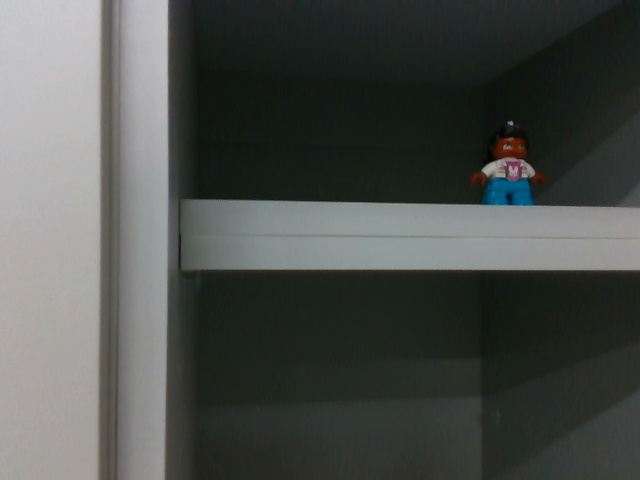people: (476, 119, 542, 212)
